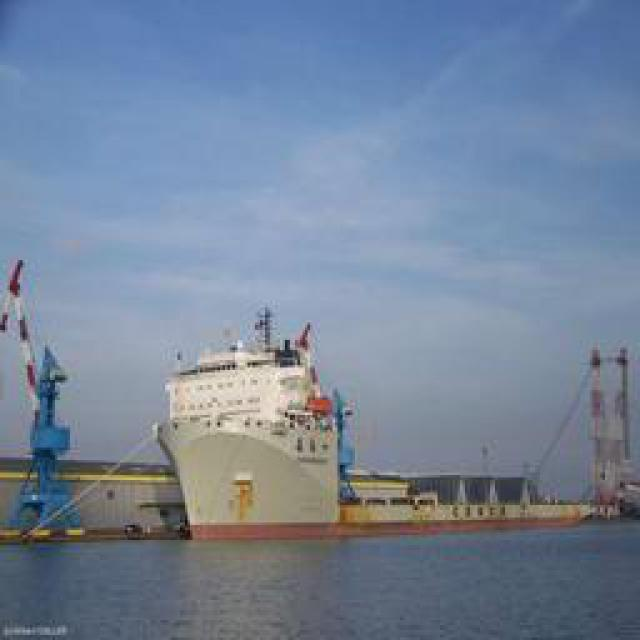Ship: (154, 301, 616, 546)
